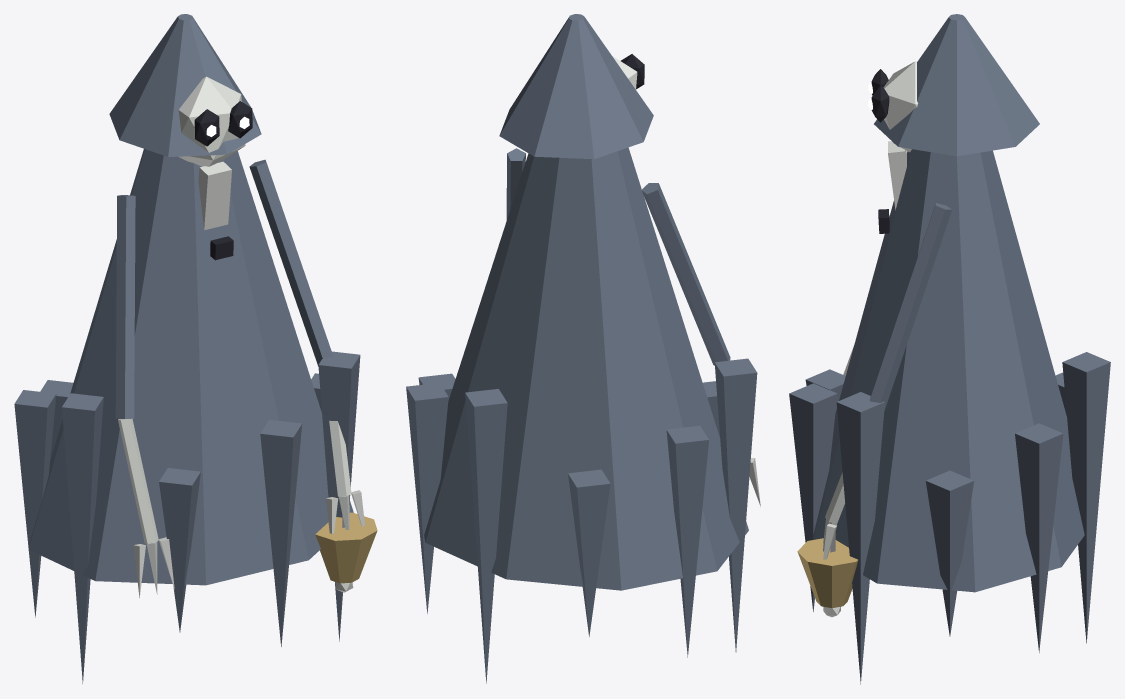
The model's file is bell_ghost.glb.
3 views of the same model, side by side, from view 1: azimuth 30°, elevation 25°; view 2: azimuth 150°, elevation 25°; view 3: azimuth 270°, elevation 25° (orthographic).
Parts seen in each view (by area): view 1: bell_ghost; view 2: bell_ghost; view 3: bell_ghost.
Part boxes in pixels (x1,y1,x2,y2): bell_ghost: (14, 14, 377, 683); bell_ghost: (406, 14, 760, 683); bell_ghost: (789, 14, 1110, 684).
Size of the model in its own units: 1.03 by 1.96 by 0.9278.
